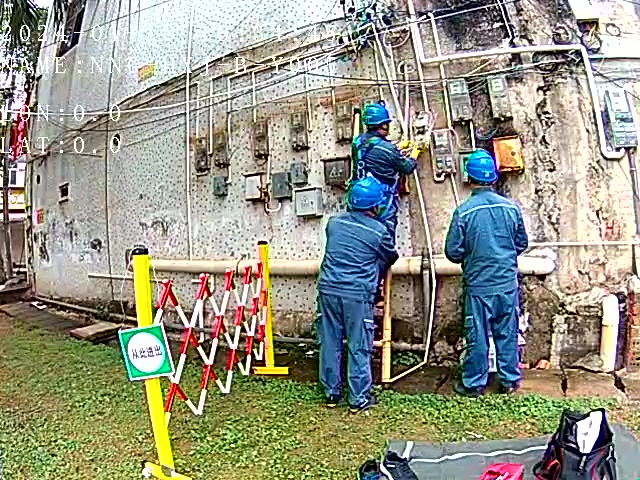halt: (351, 181, 390, 216), (467, 153, 503, 188), (366, 105, 396, 136)
